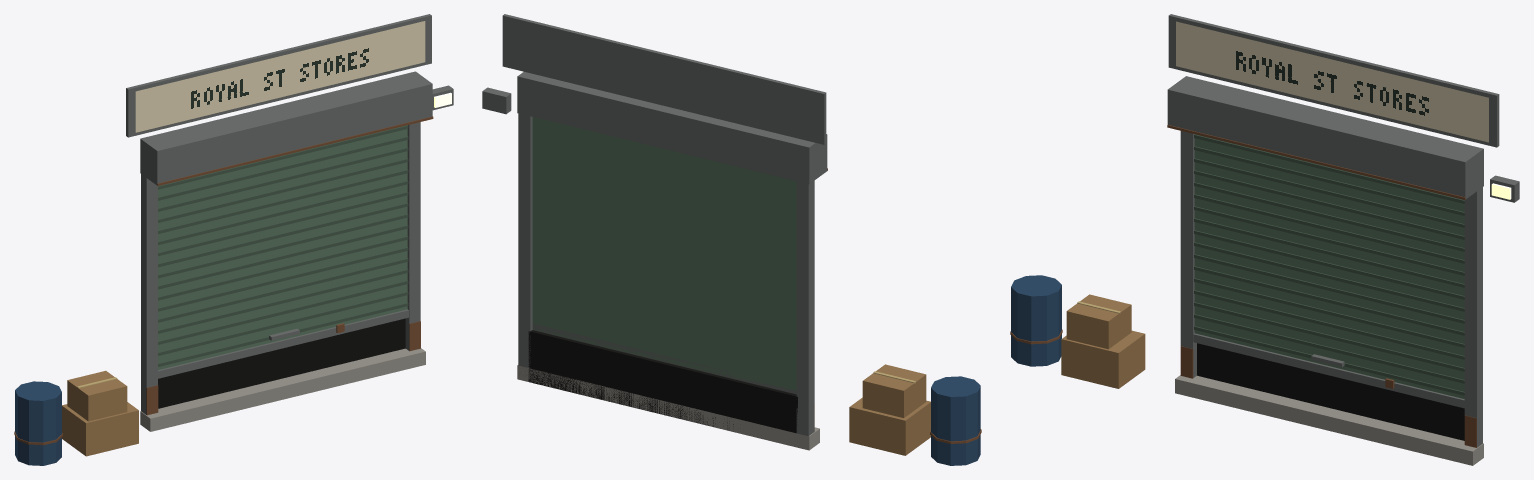
File: royal_st_roller_door.glb
3 views of the same model, side by side, from view 1: azimuth 30°, elevation 25°; view 2: azimuth 150°, elevation 25°; view 3: azimuth 330°, elevation 25° (orthographic). The views are drawn at different scales.
Visible parts, largest first — view 1: RoyalStRollerDoor; view 2: RoyalStRollerDoor; view 3: RoyalStRollerDoor.
Boxes of the visible parts, x1,y1,x2,y2 form: RoyalStRollerDoor: (14,14,453,465); RoyalStRollerDoor: (482,14,981,465); RoyalStRollerDoor: (1010,14,1519,465).
Size of what is drawn, in the model's own units: 6.37 by 4.6 by 0.75.
11 materials, 1 textured.
